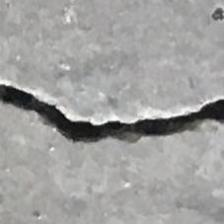Crack: (0, 65, 224, 153)
